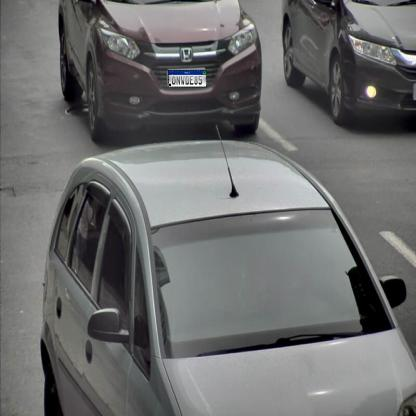PlacaM: (168, 70, 207, 87)
